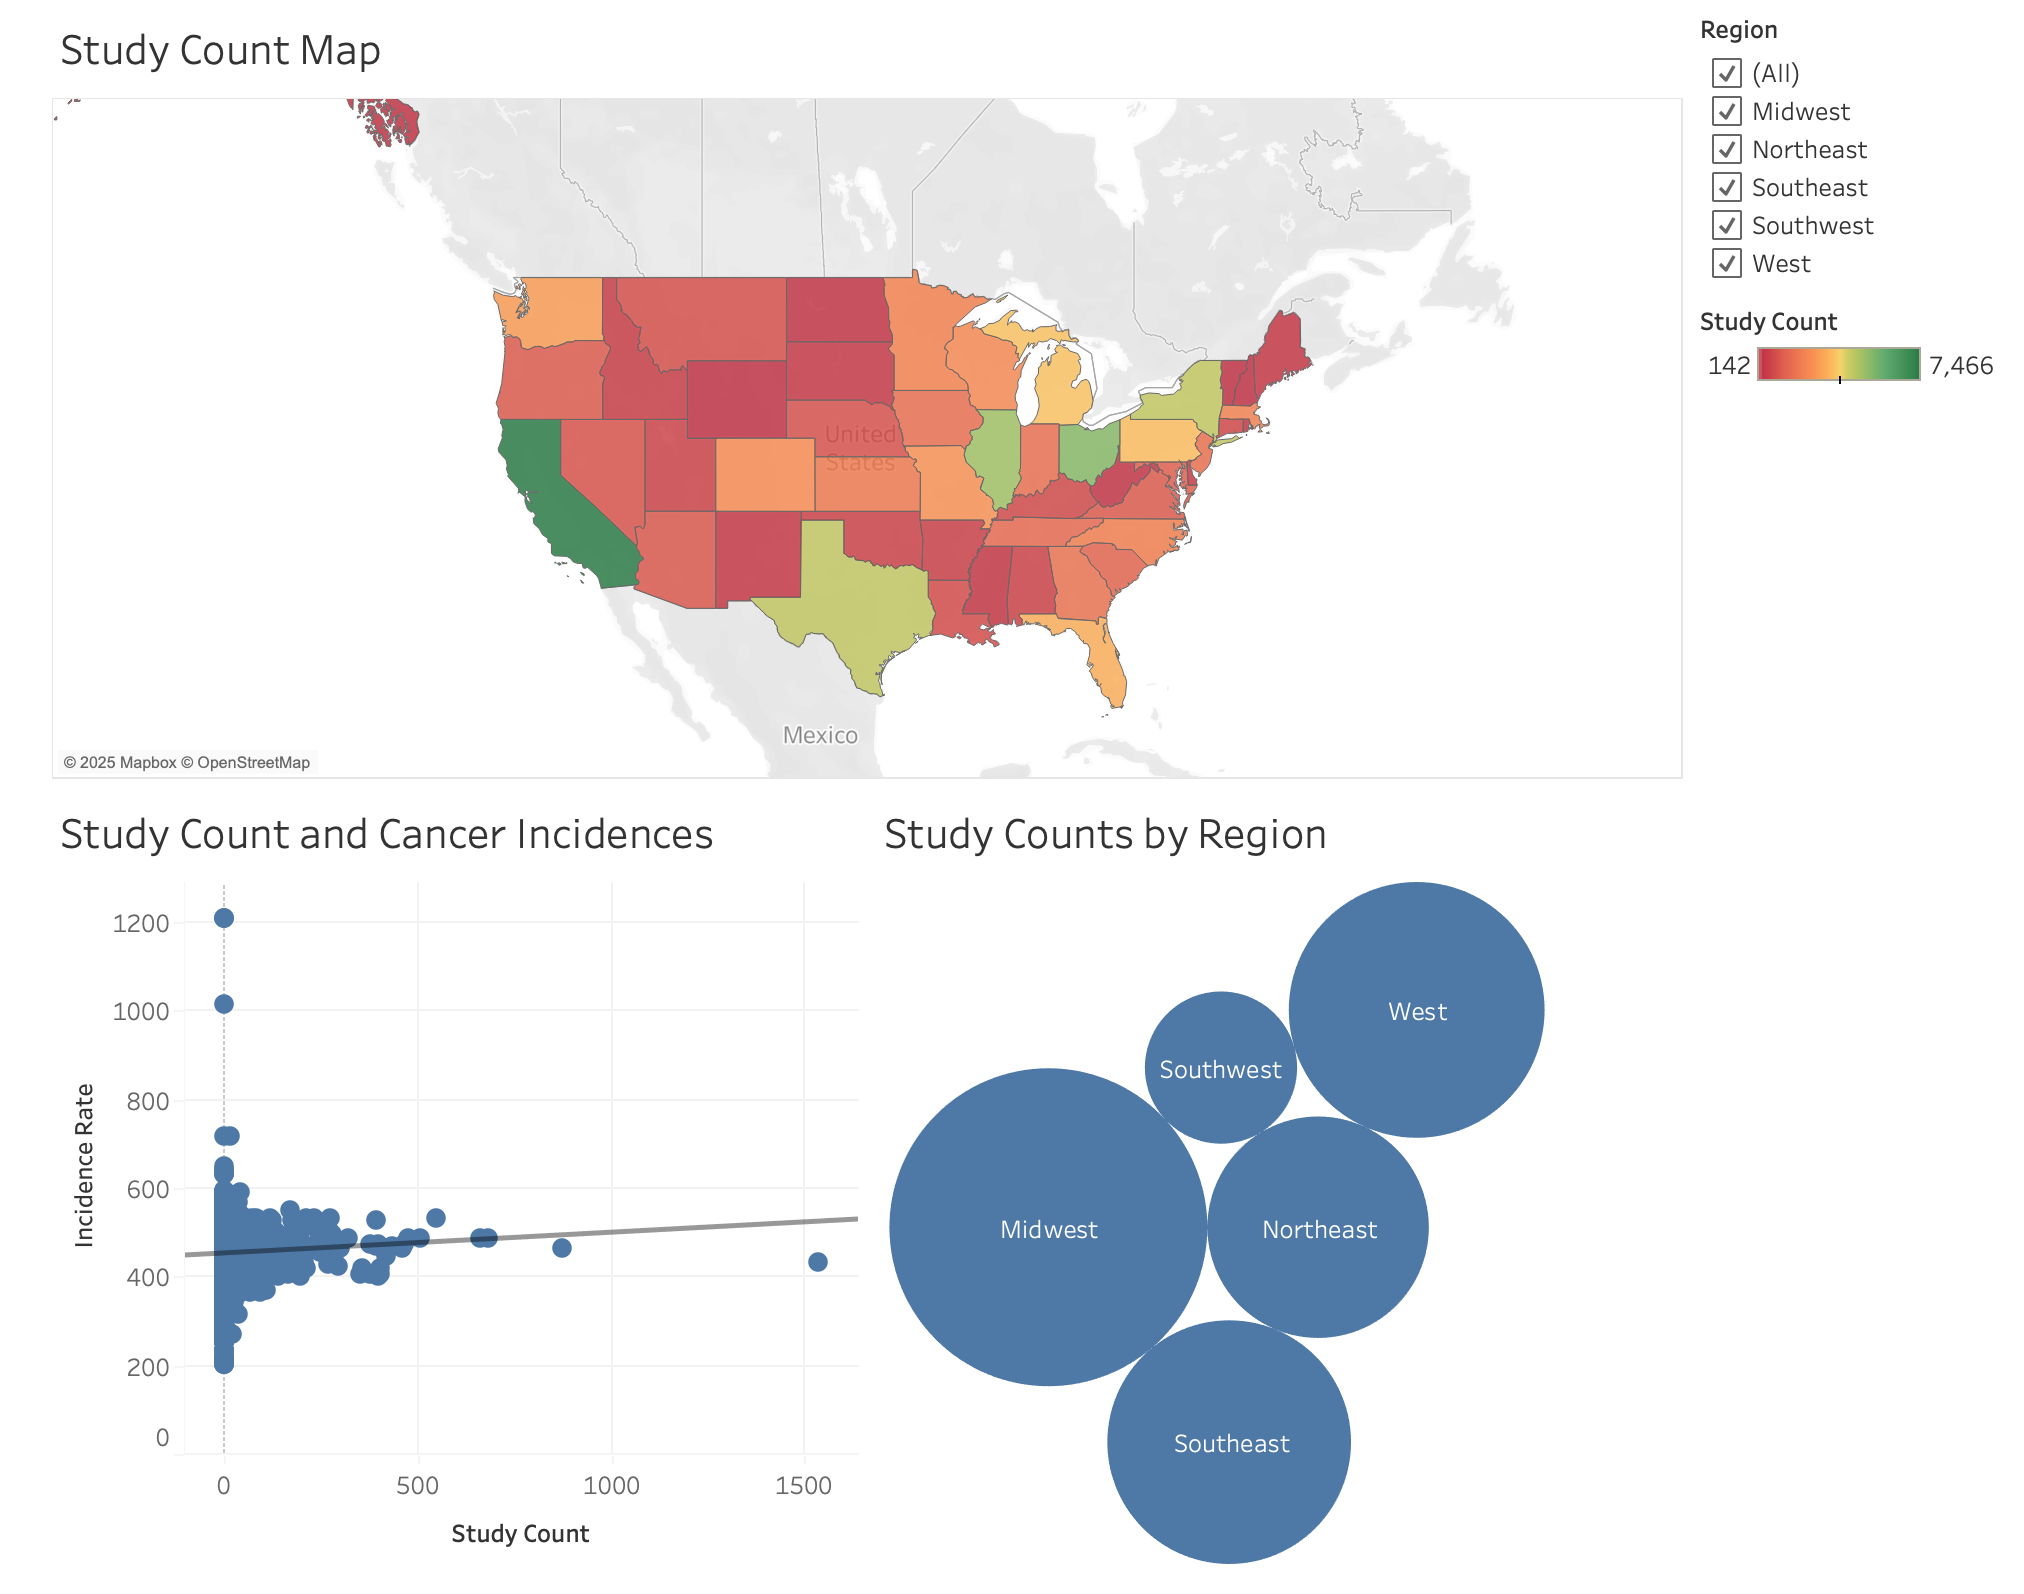

The dashboard page shown, as its layout file describes it:
{"tool":"tableau","page":{"name":"United States Study Counts ","canvas":[1000,800],"ordinal":10},"visuals":[{"type":"worksheet","title":"Study Count Map","mark":"Automatic","box":[8,8,824,392]},{"type":"filter","title":"Study Count Map","param":"[federated.04o36gq1rfu74516y9lqn1qlyah2].[none:Region:nk]","box":[832,8,160,146]},{"type":"legend","title":"Study Count Map","param":"[federated.04o36gq1rfu74516y9lqn1qlyah2].[sum:studyCount:qk]","box":[832,154,160,65]},{"type":"worksheet","title":"Study Count and Cancer Incidences","mark":"Shape","rows":["incidenceRate"],"cols":["studyCount"],"box":[8,400,412,392]},{"type":"worksheet","title":"Region and Study Count","mark":"Circle","box":[420,400,412,392]}]}

Visuals, with their boxes in screenshot pixels (x1, y1, x2, y2), scaled from the page's 1000x800 canvas onto the 2024x1594 screenshot:
"Study Count Map" worksheet: pyautogui.locateOnScreen(16, 16, 1684, 797)
"Study Count Map" filter: pyautogui.locateOnScreen(1684, 16, 2008, 307)
"Study Count Map" legend: pyautogui.locateOnScreen(1684, 307, 2008, 436)
"Study Count and Cancer Incidences" worksheet (Shape marks): pyautogui.locateOnScreen(16, 797, 850, 1578)
"Region and Study Count" worksheet (Circle marks): pyautogui.locateOnScreen(850, 797, 1684, 1578)
